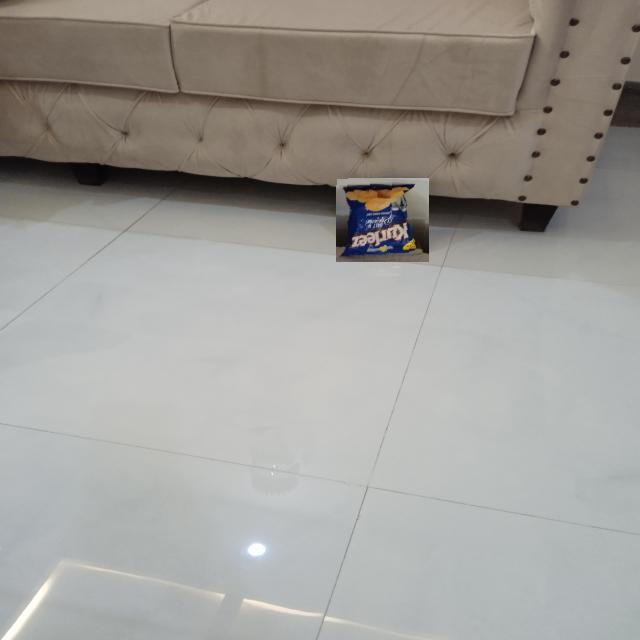Plastic: (336, 178, 429, 262)
